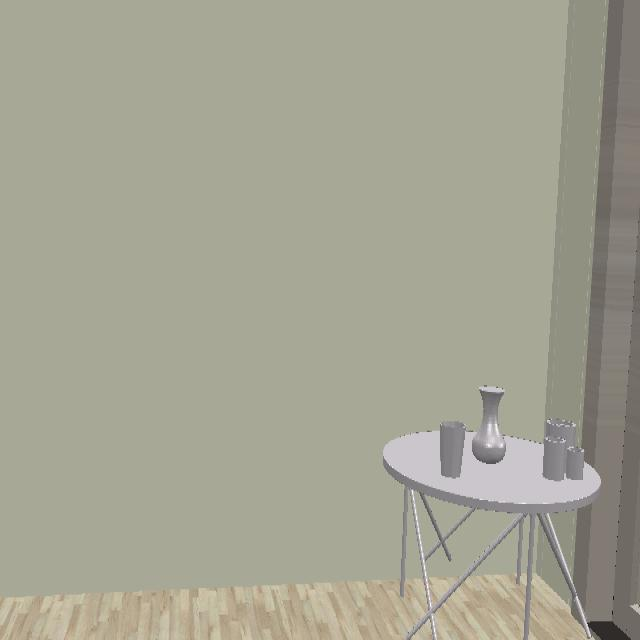table: (384, 432, 601, 638)
